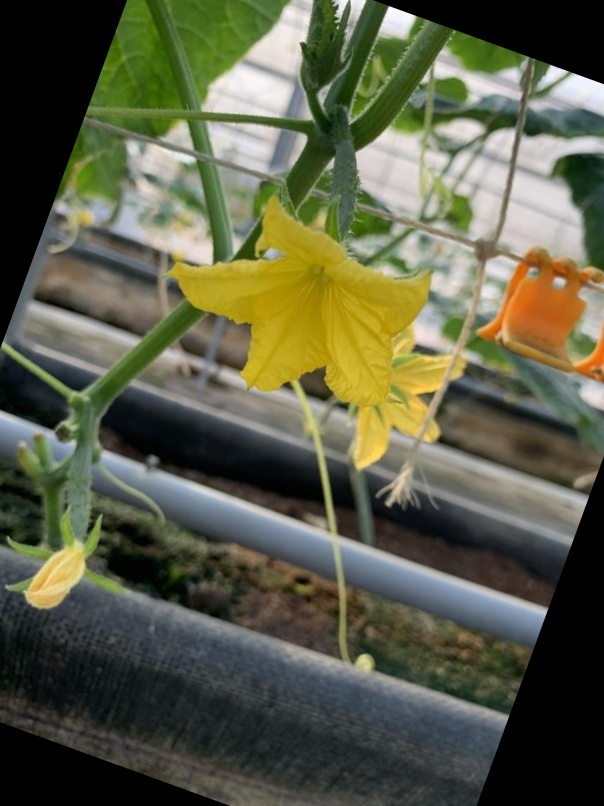flowering: (166, 122, 458, 408)
